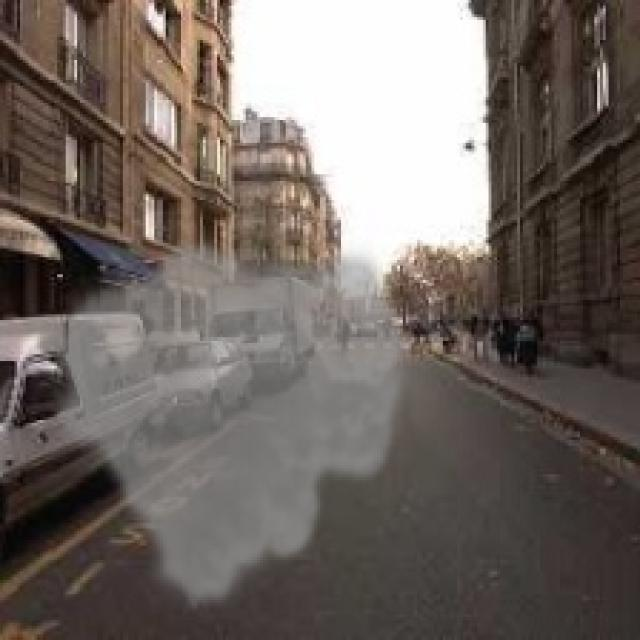Smoke: (42, 237, 414, 617)
